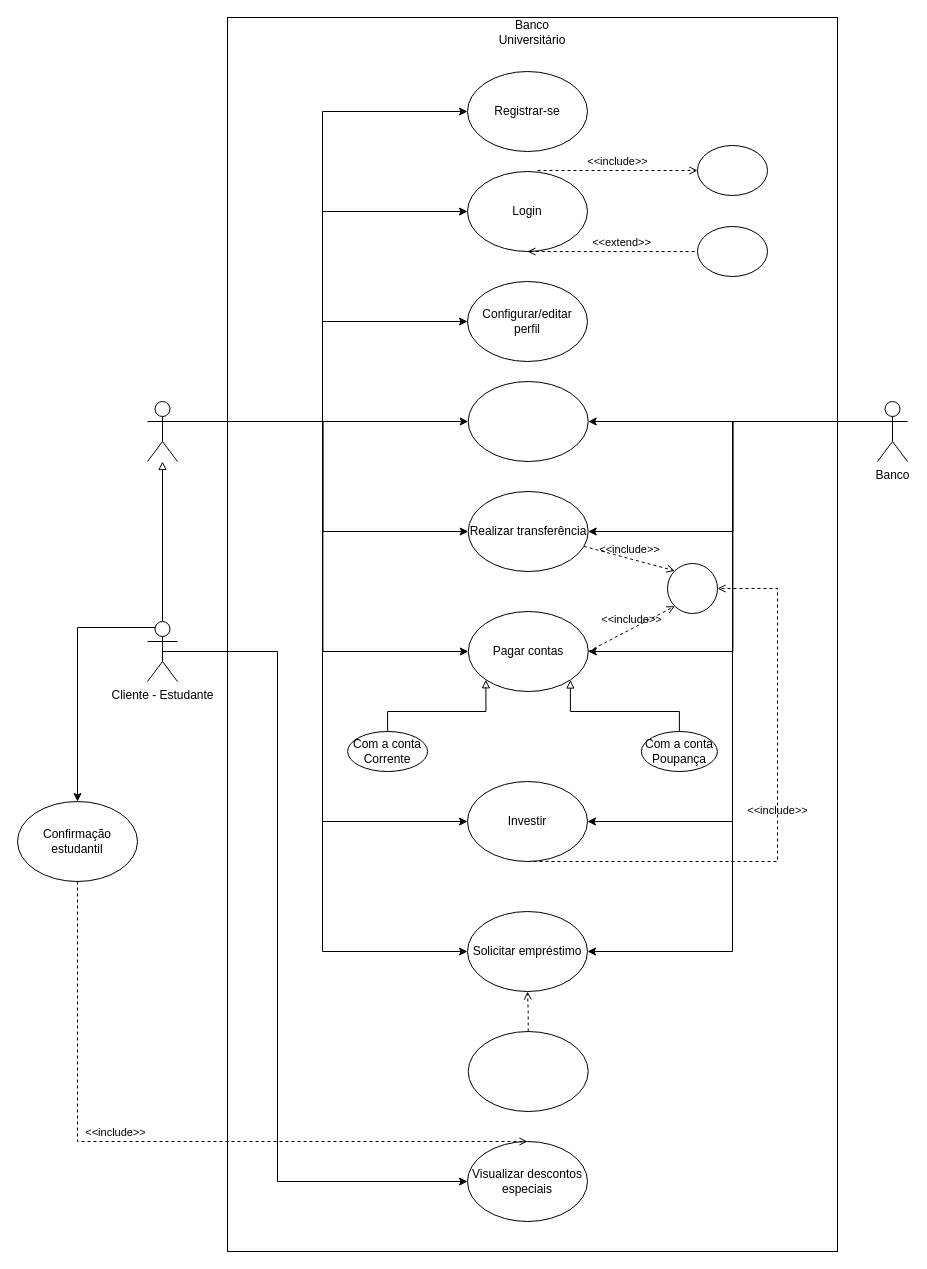
The diagram is 927 pixels wide and 1269 high, and some of its shapes have lost their labels. Each missing label, with the box of its shape:
Acompanhar empréstimos: (467, 1030, 588, 1112)
Cliente: (146, 400, 178, 462)
Erro login: (696, 226, 768, 276)
Verificar saldo: (666, 562, 718, 614)
Verificar senha: (696, 144, 768, 196)
Visualizar/Verificar Conta: (467, 380, 588, 462)
